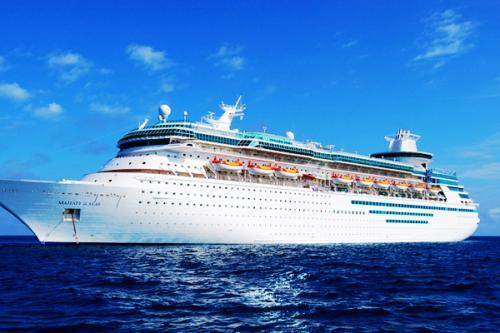youlun: (2, 99, 485, 247)
